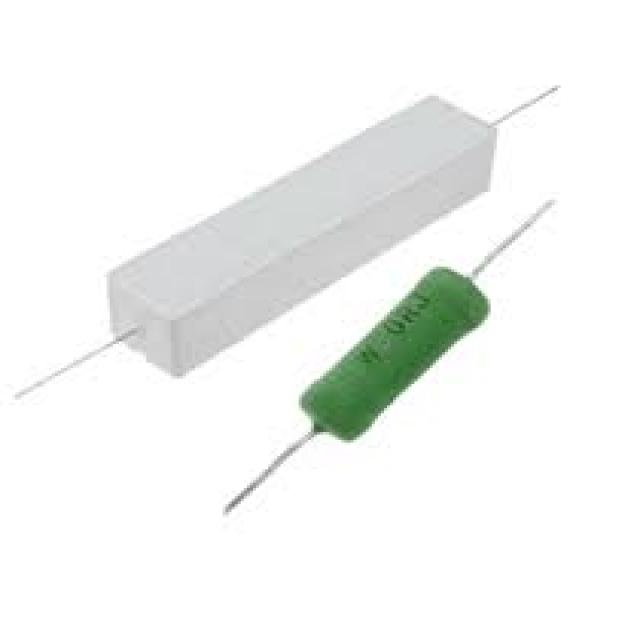Resistor: (116, 97, 488, 370), (304, 268, 489, 441)
